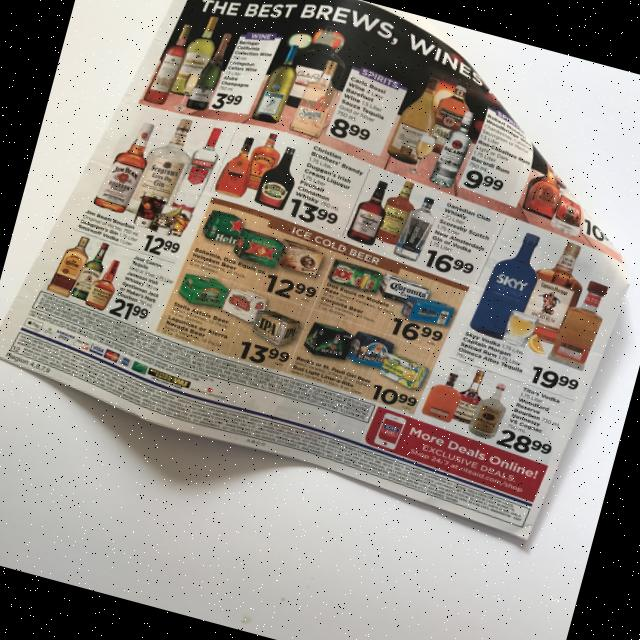paper: (0, 0, 640, 549)
